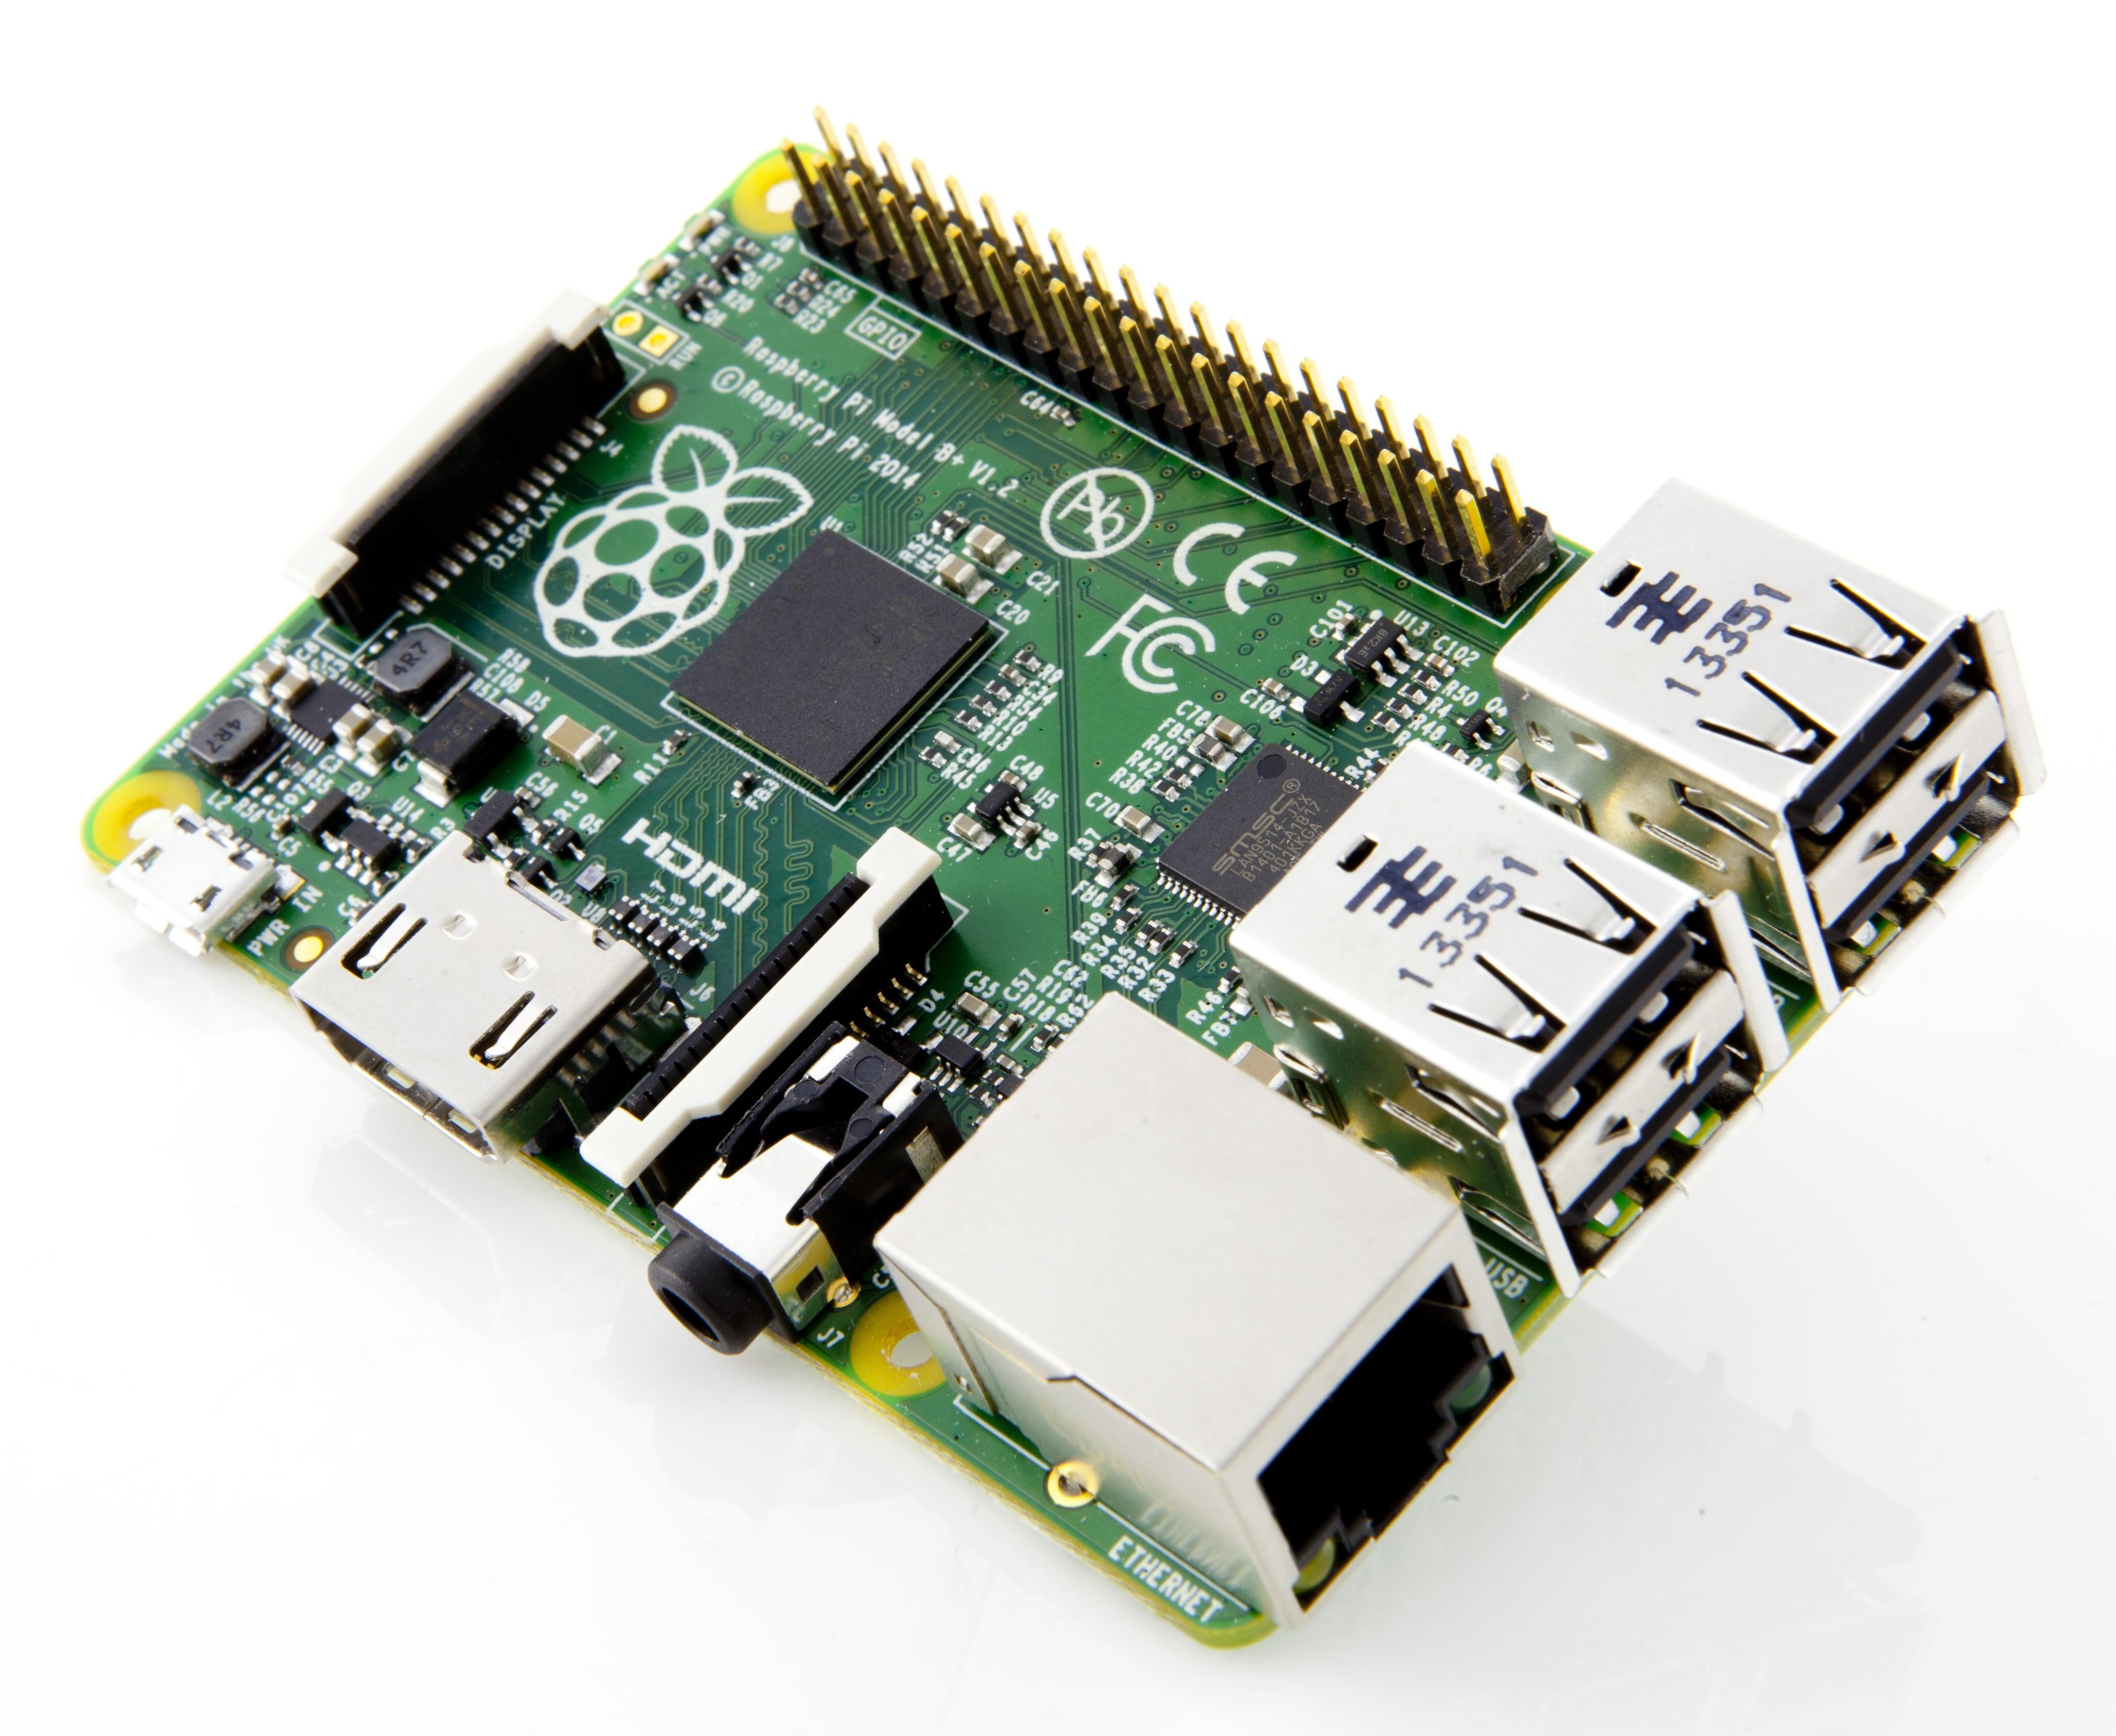audiojack: (638, 1021, 954, 1353)
bchi: (654, 508, 991, 805)
ethernet: (865, 982, 1541, 1631)
gpio: (775, 105, 1504, 536)
usb: (1460, 418, 2116, 1065), (1209, 727, 1791, 1309)
